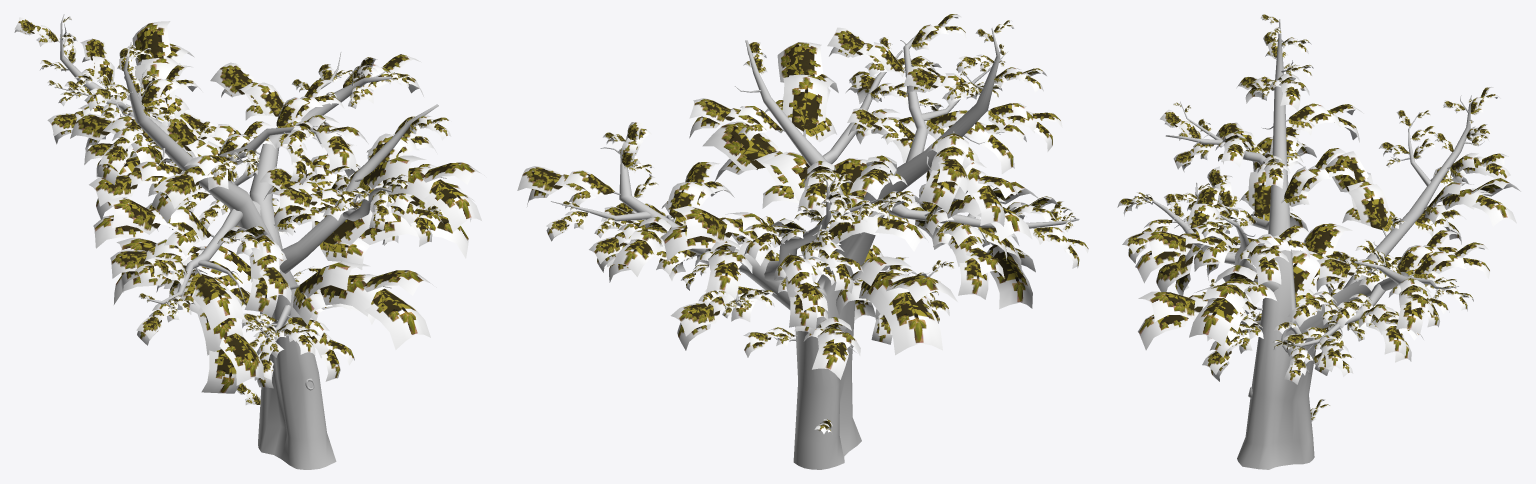
File: Tree 1.FBX
3 views of the same model, side by side, from view 1: azimuth 30°, elevation 25°; view 2: azimuth 150°, elevation 25°; view 3: azimuth 270°, elevation 25° (orthographic). The views are drawn at different scales.
Visible parts, largest first — view 1: Tree; view 2: Tree; view 3: Tree.
Boxes of the visible parts, x1=… form: Tree: x1=14, y1=14, x2=484, y2=469; Tree: x1=517, y1=14, x2=1088, y2=469; Tree: x1=1117, y1=14, x2=1520, y2=469.
Bounding box in the file's own units: 139 × 139 × 142.
